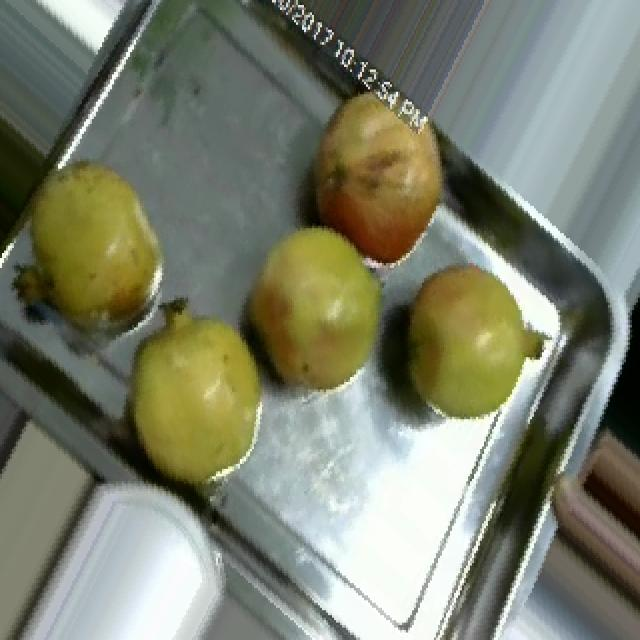fruit: (96, 280, 290, 516), (286, 62, 474, 295), (0, 129, 192, 352), (222, 201, 412, 419), (378, 238, 564, 447)
